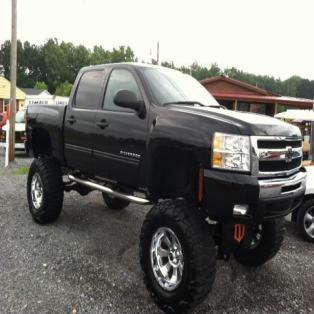Auto: (25, 62, 306, 309)
